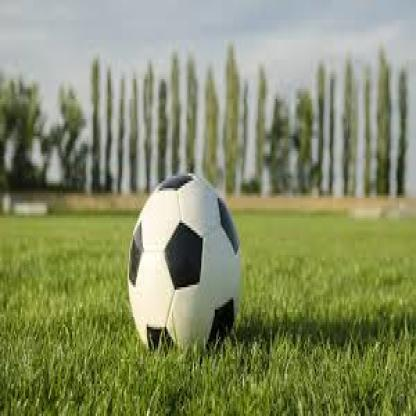ball: (127, 175, 240, 356)
